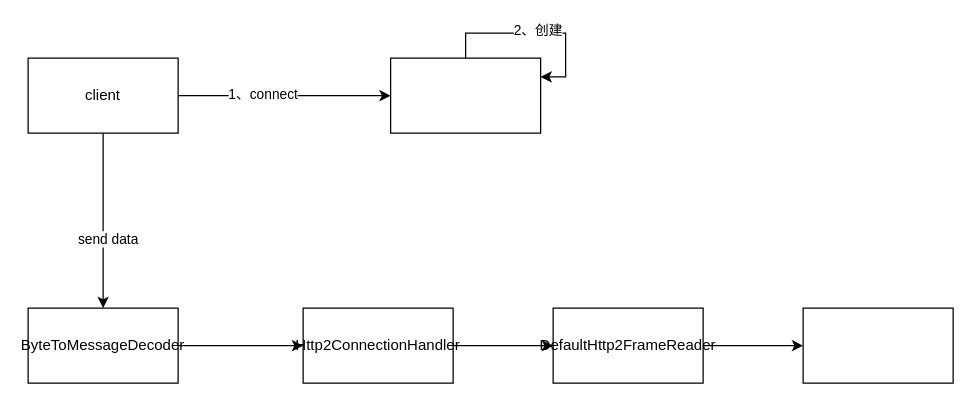
Some shapes in this 975 by 405 pixel diagram are drawn without their labels. Here are the shapes that lost their labels. From the top down, the centre of each, then its label:
[465,95]: NettyServerTransport
[877,345]: NettyServerHandler
